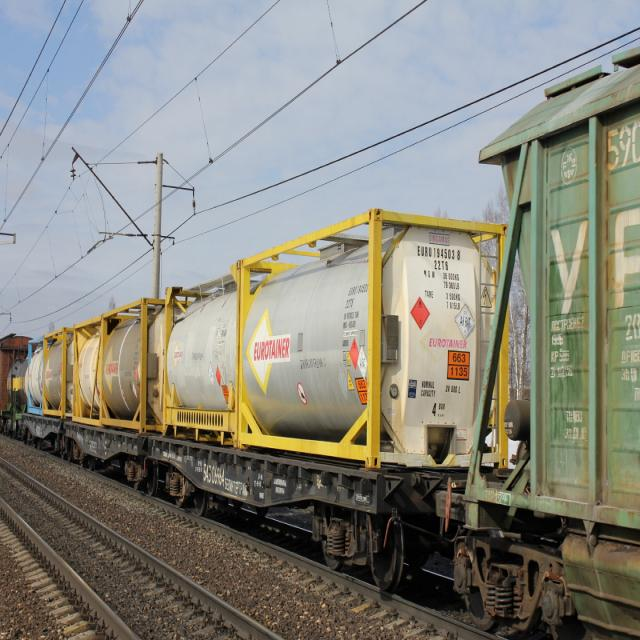flatcar: (147, 434, 442, 602), (64, 419, 146, 491), (20, 412, 62, 456)
hopper: (450, 33, 640, 640)
tank: (236, 200, 512, 475), (157, 260, 241, 452), (96, 291, 161, 433), (70, 310, 102, 430), (42, 324, 72, 418), (27, 332, 44, 416)
